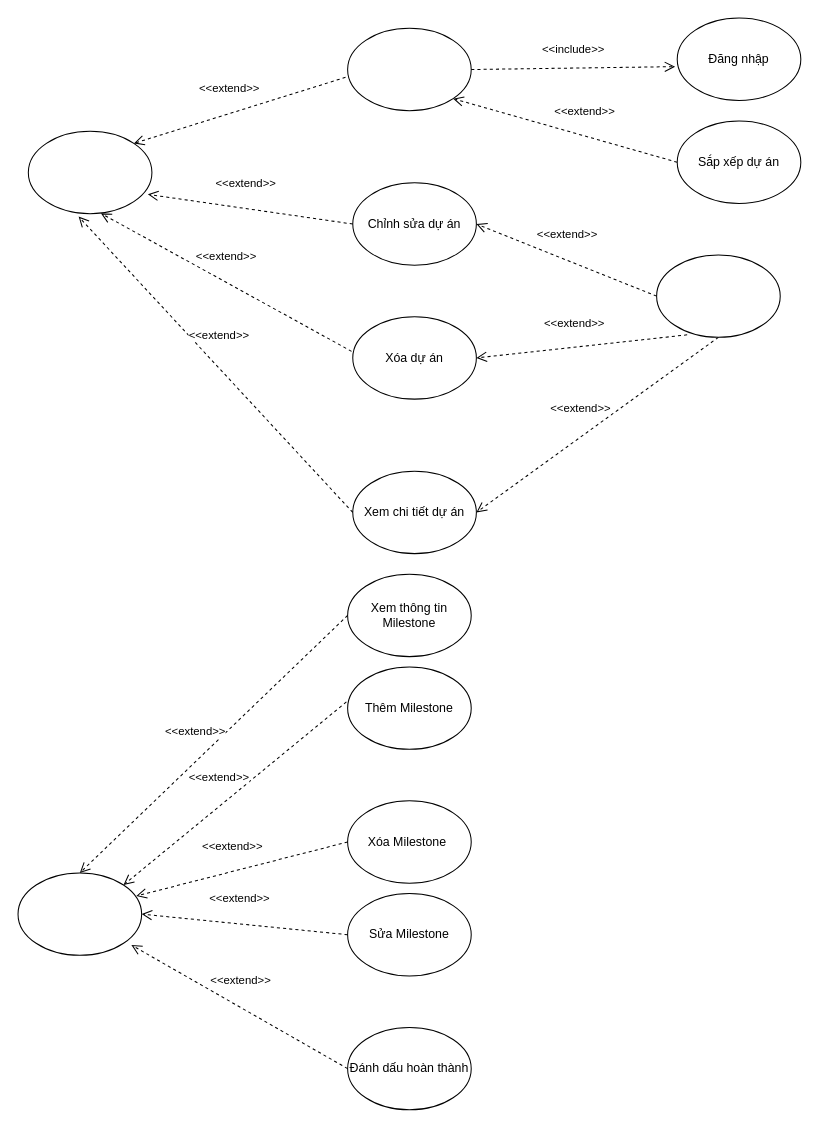
This 819x1128 diagram has some shape labels left out. The shapes that lost their labels are listed below. From the top down, each one's box as (x1, y1, x2, y2) in pixels, then its label:
(347, 27, 471, 111): Thêm dự án
(27, 130, 152, 214): Quản Lý Project
(656, 254, 780, 337): Tìm kiếm dự án
(17, 872, 142, 955): Quản lý Milestone
